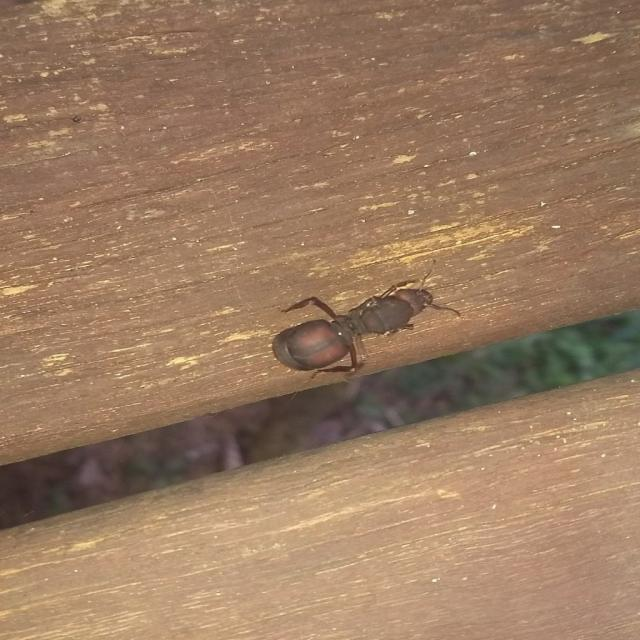Alive-Female-Dealate: (271, 260, 461, 380)
